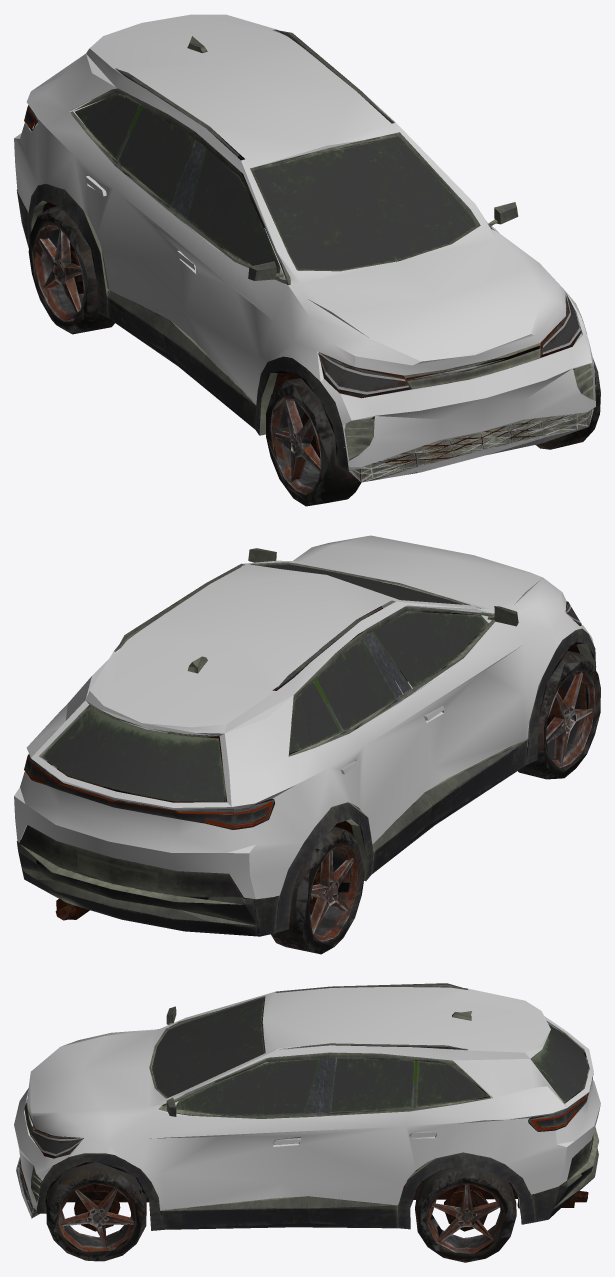
Rendered from car2-lod2.fbx.
3 views of the same model, one above another, from view 1: azimuth 30°, elevation 25°; view 2: azimuth 150°, elevation 25°; view 3: azimuth 270°, elevation 25° (orthographic). The views are drawn at different scales.
Visible parts, largest first — view 1: car2-lod2; view 2: car2-lod2; view 3: car2-lod2.
Part boxes in pixels (left/top/right/bottom): car2-lod2: left=14, top=14, right=600, bottom=506; car2-lod2: left=14, top=535, right=600, bottom=954; car2-lod2: left=14, top=983, right=600, bottom=1262.
Bounding box in the file's own units: 1.81 × 1.61 × 4.25.
